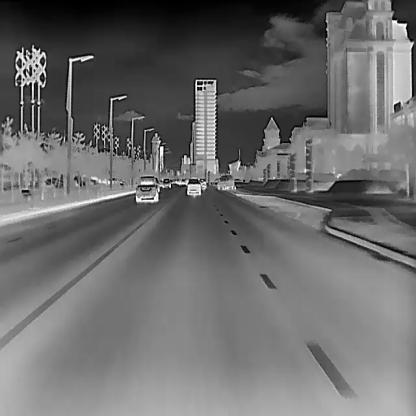car: (133, 173, 159, 202), (216, 175, 234, 191), (186, 175, 199, 196), (161, 176, 171, 187)
